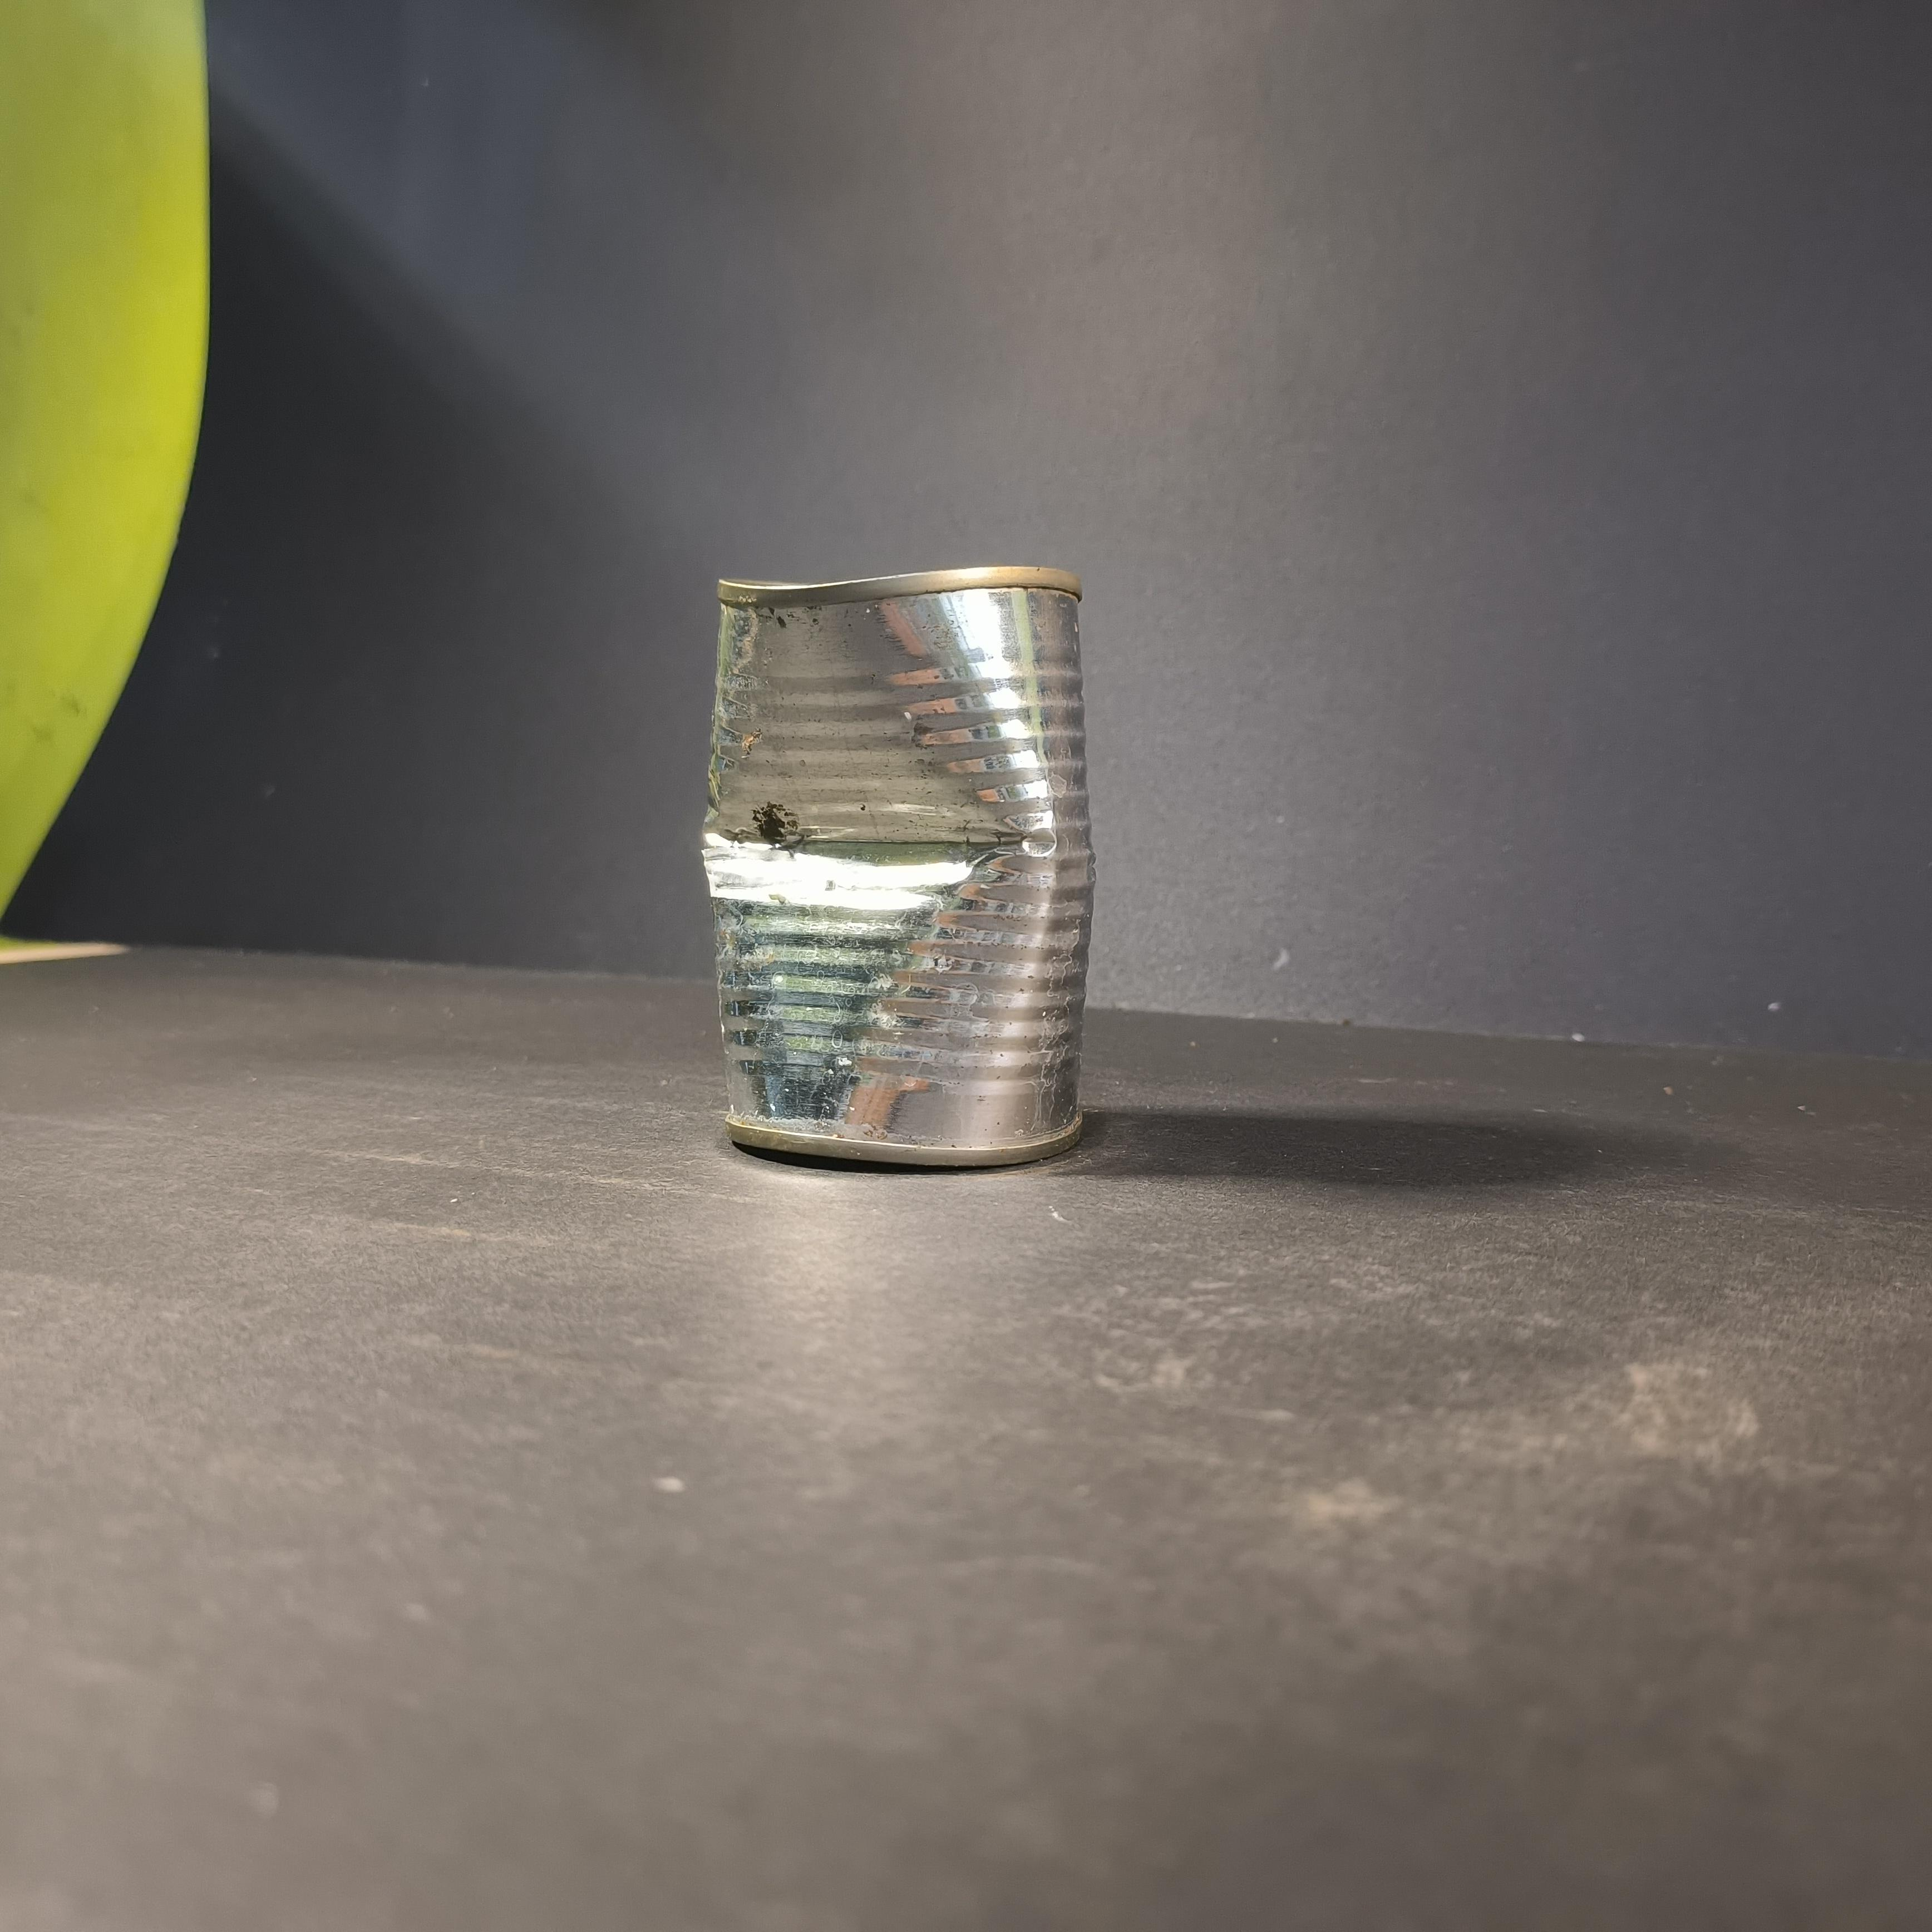Dented: (671, 554, 1148, 1187)
